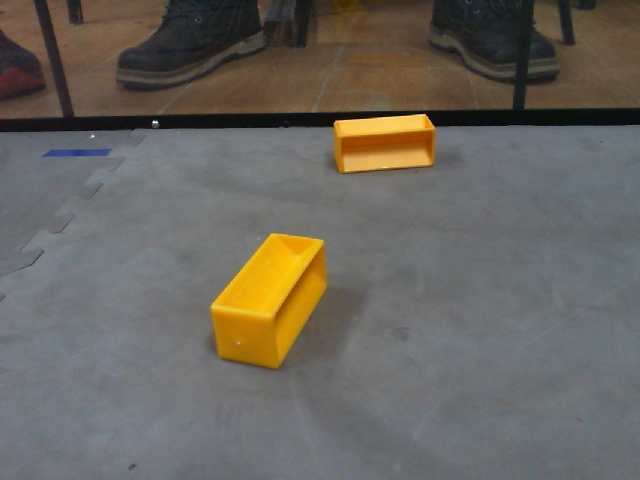YellowSample: (207, 229, 331, 379), (326, 111, 444, 184)
